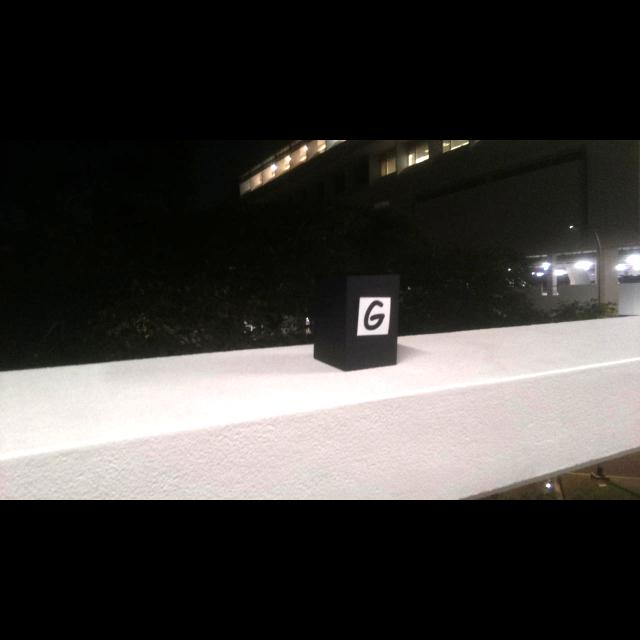G: (364, 300, 385, 330)
